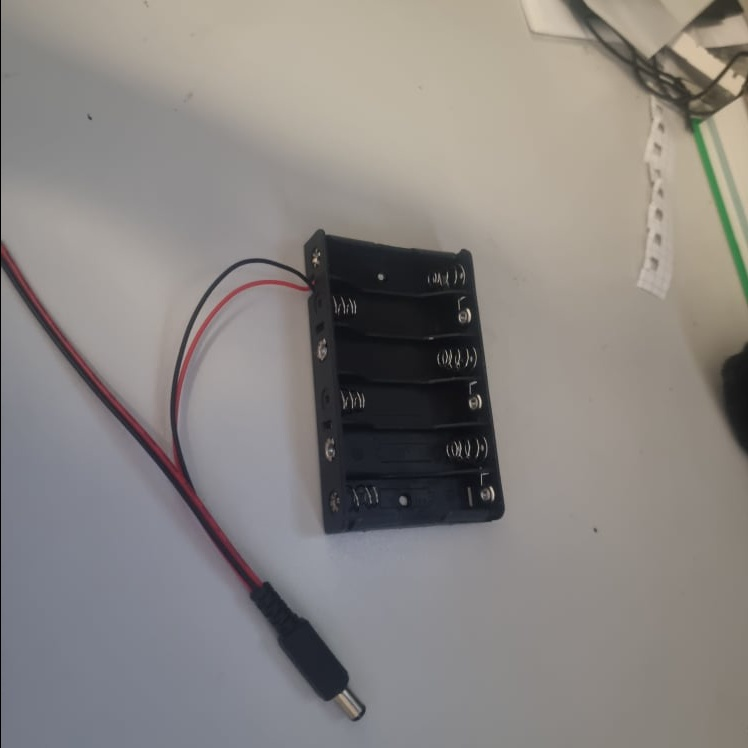BATTERY BOX: (300, 227, 505, 538)
